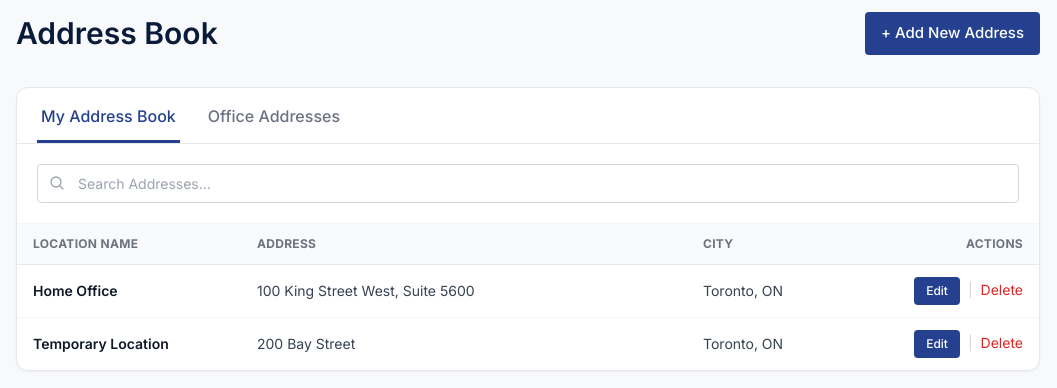
AddressBookPage › AB-13 Office tab shows Colliers offices
Click the button "Office Addresses".
click(274, 123)  # box [204,104,344,142]
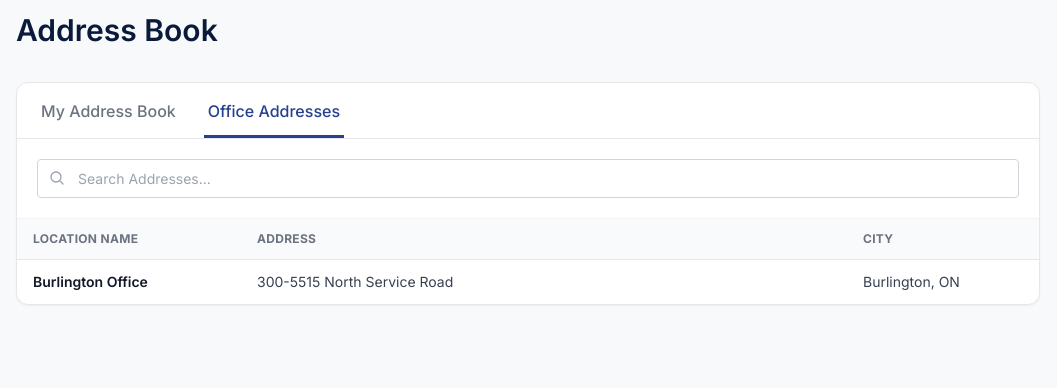
expect the text "Burlington Office" is shown: met, box [17,260,241,304]
expect the text "5515 North Service Road" is shown: met, box [257,273,453,290]
